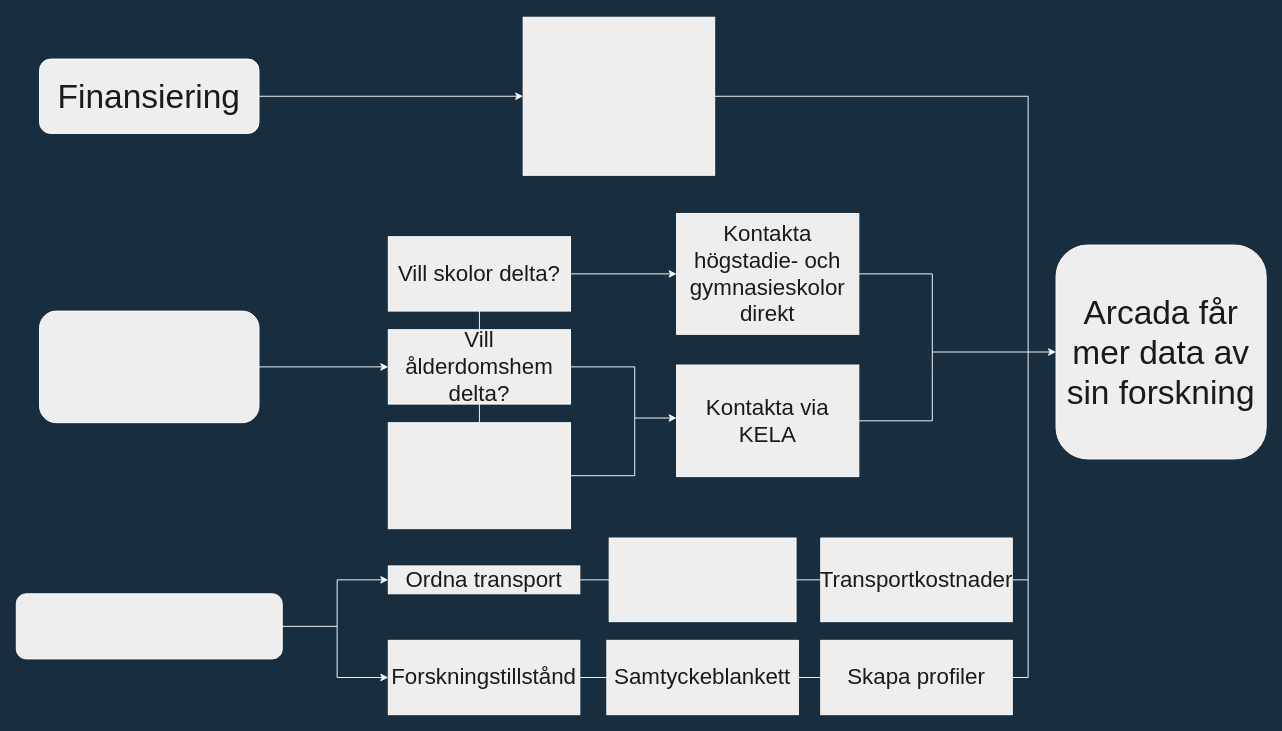
This 1282x731 diagram has some shape labels left out. Here are the shapes that lost their labels. From the top down, the centre of each, then its label:
(618,95): Ansök om understöd av Social- och Hälsovårdssektorn
(149,366): Klienter
(479,475): Vill funktionshindrade delta?
(702,579): Transport för funktionshindrade och åldringar
(148,626): Logistik/Tillstånd
